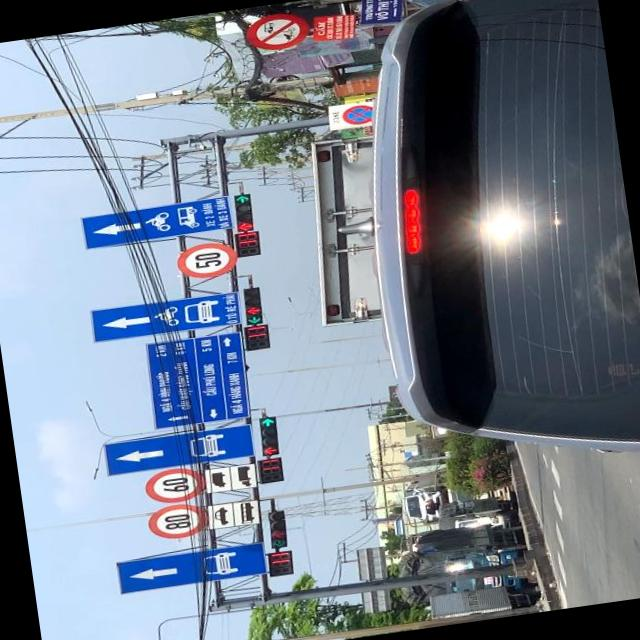P-127: (175, 238, 238, 280)
